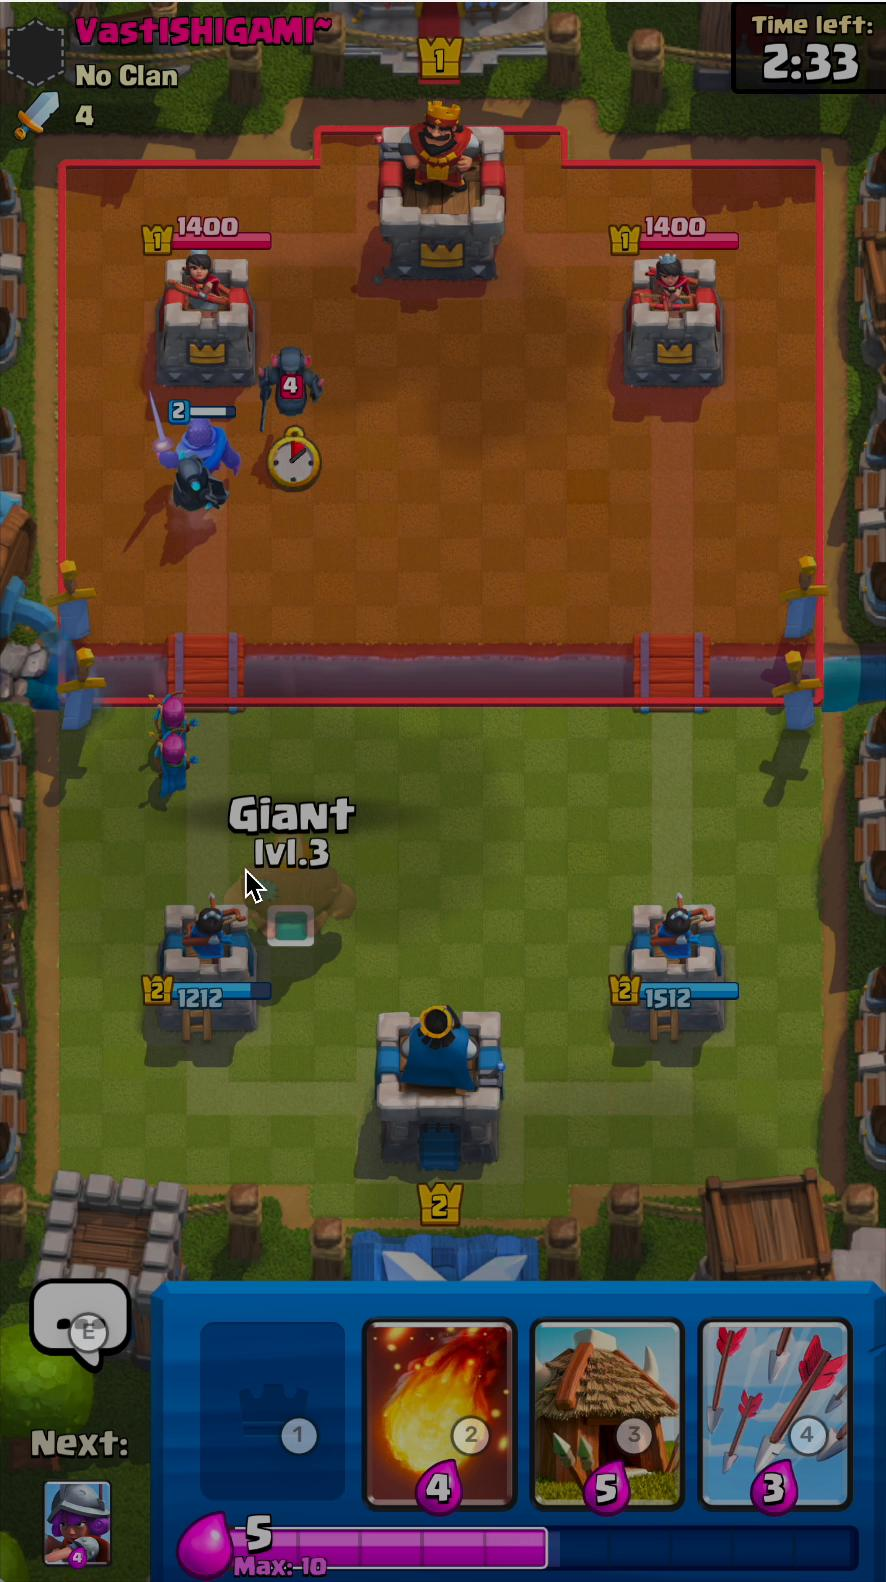archere: (142, 691, 196, 763), (149, 730, 198, 804)
chevalier: (149, 398, 247, 481)
mini_PEKKA: (155, 451, 229, 526)
